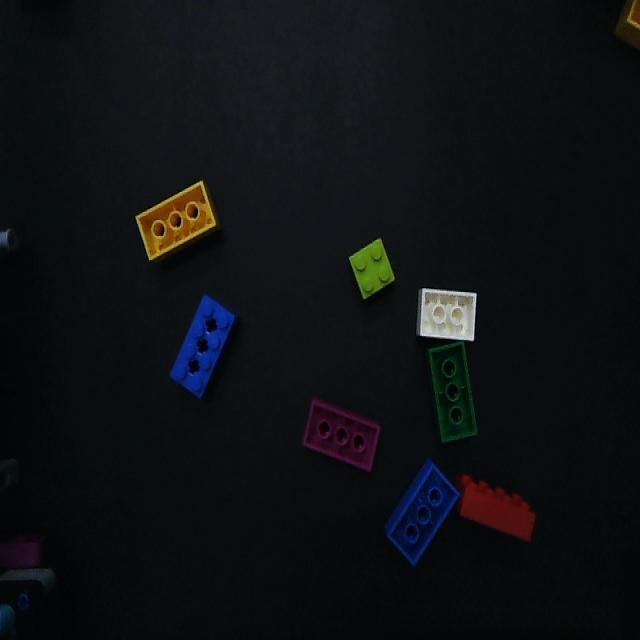lego_brick: (386, 460, 458, 564), (171, 295, 234, 396), (138, 181, 218, 260), (303, 399, 379, 469), (455, 475, 535, 540), (428, 343, 476, 441), (419, 287, 476, 337), (349, 239, 394, 299)
